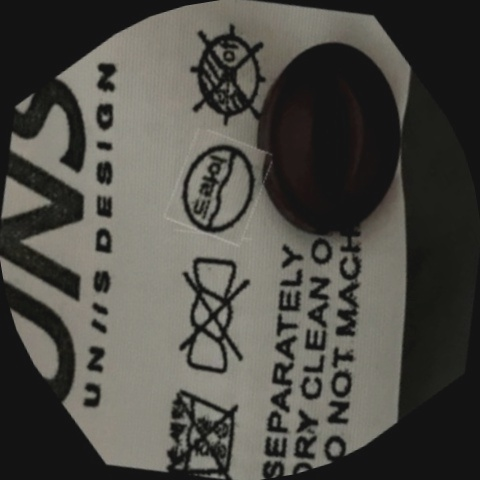DN_dry: (150, 0, 307, 155)
DN_wring: (127, 229, 303, 405)
dry_clean: (148, 116, 291, 260)
hand_wash: (124, 351, 274, 480)
